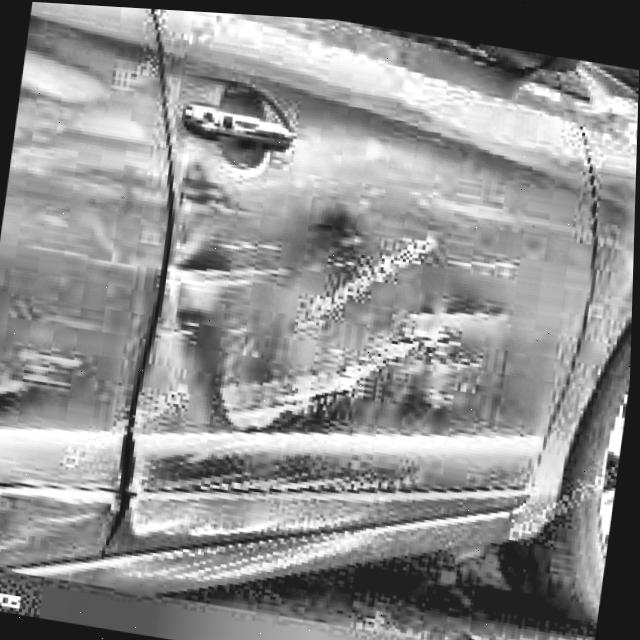door_dent: (131, 134, 524, 542)
door_scratch: (370, 277, 497, 400)
